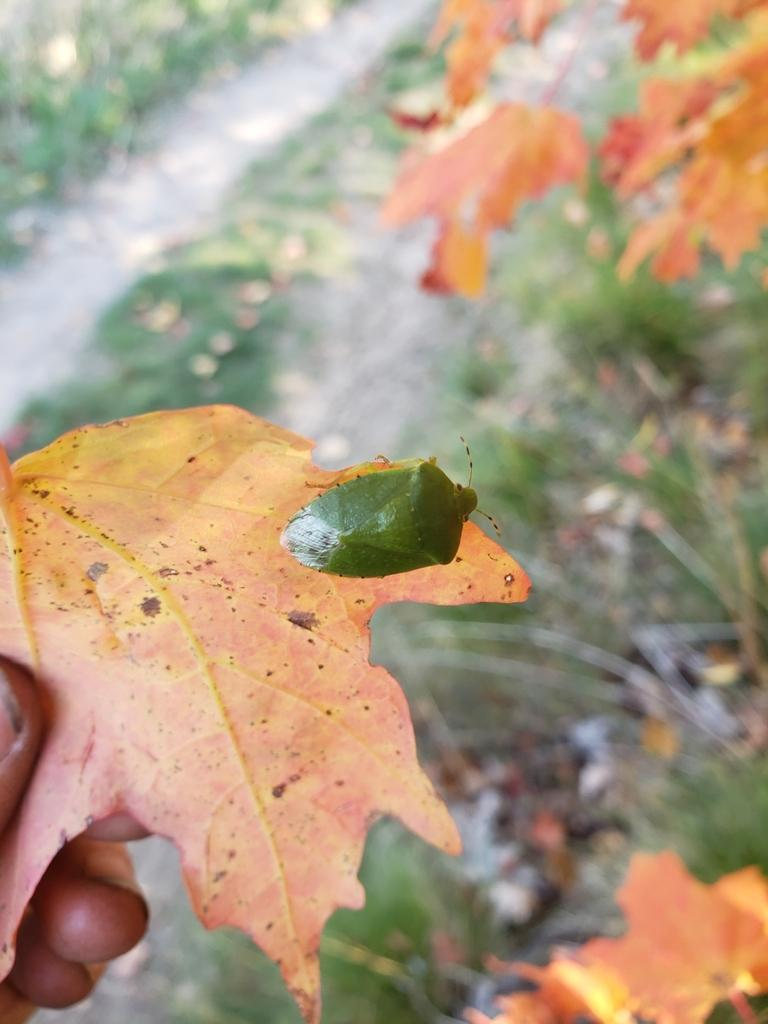stink_bugs: (232, 403, 554, 645)
